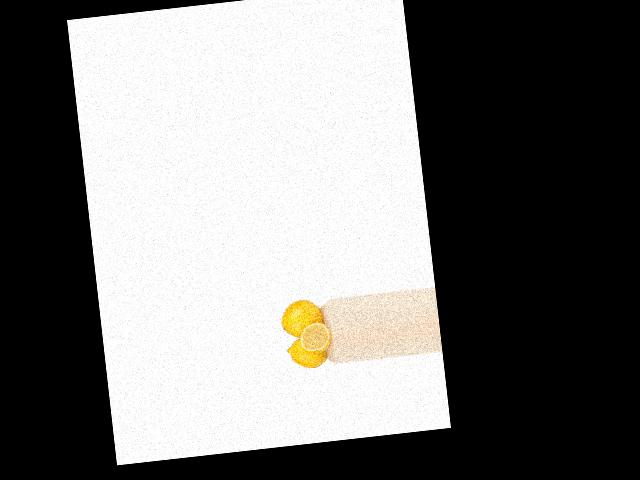lemon: (285, 335, 332, 372)
